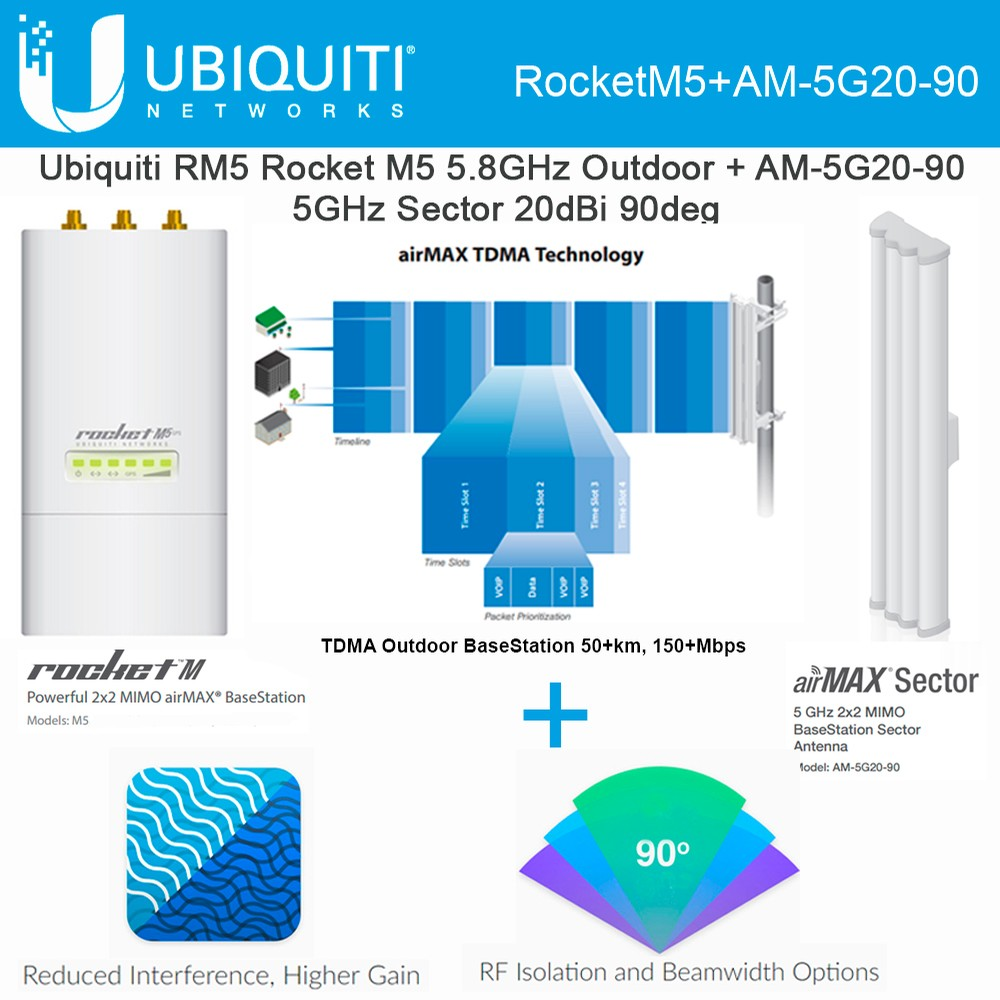sa: (844, 208, 970, 651)
